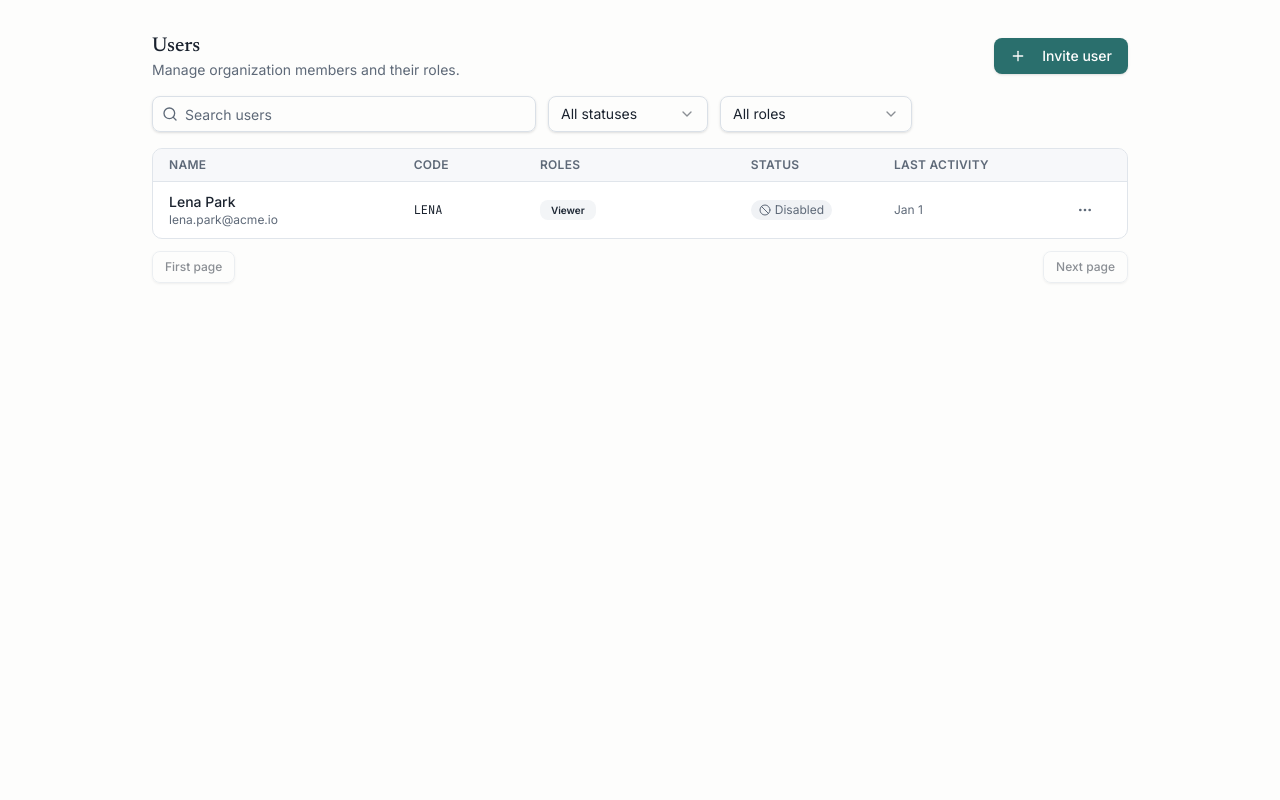
it: AdminUsers › activates a disabled user
expect the text "Lena Park" is shown: met, box [169,193,236,210]
Click the button named "Actions".
click(1085, 210)  # box [1071,196,1099,224]
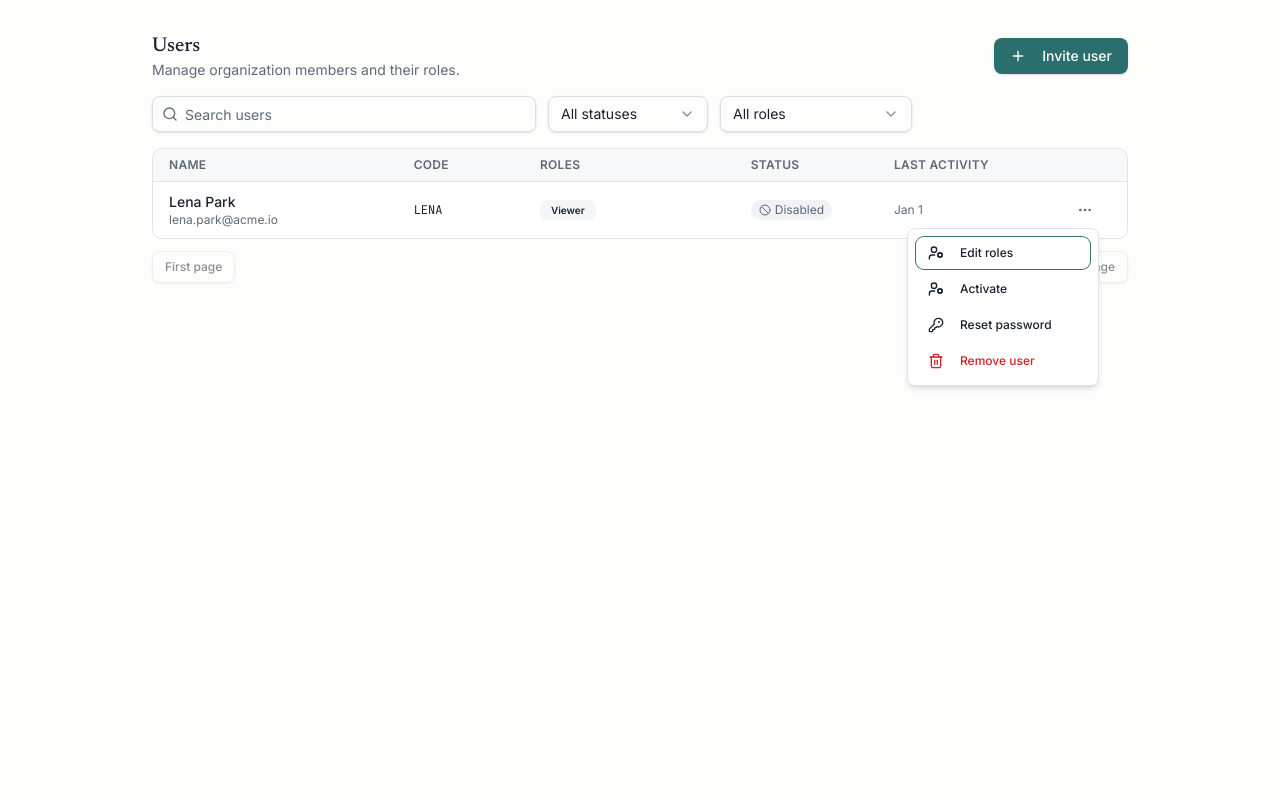
Click the button "Activate".
click(1003, 289)  # box [916,273,1090,305]
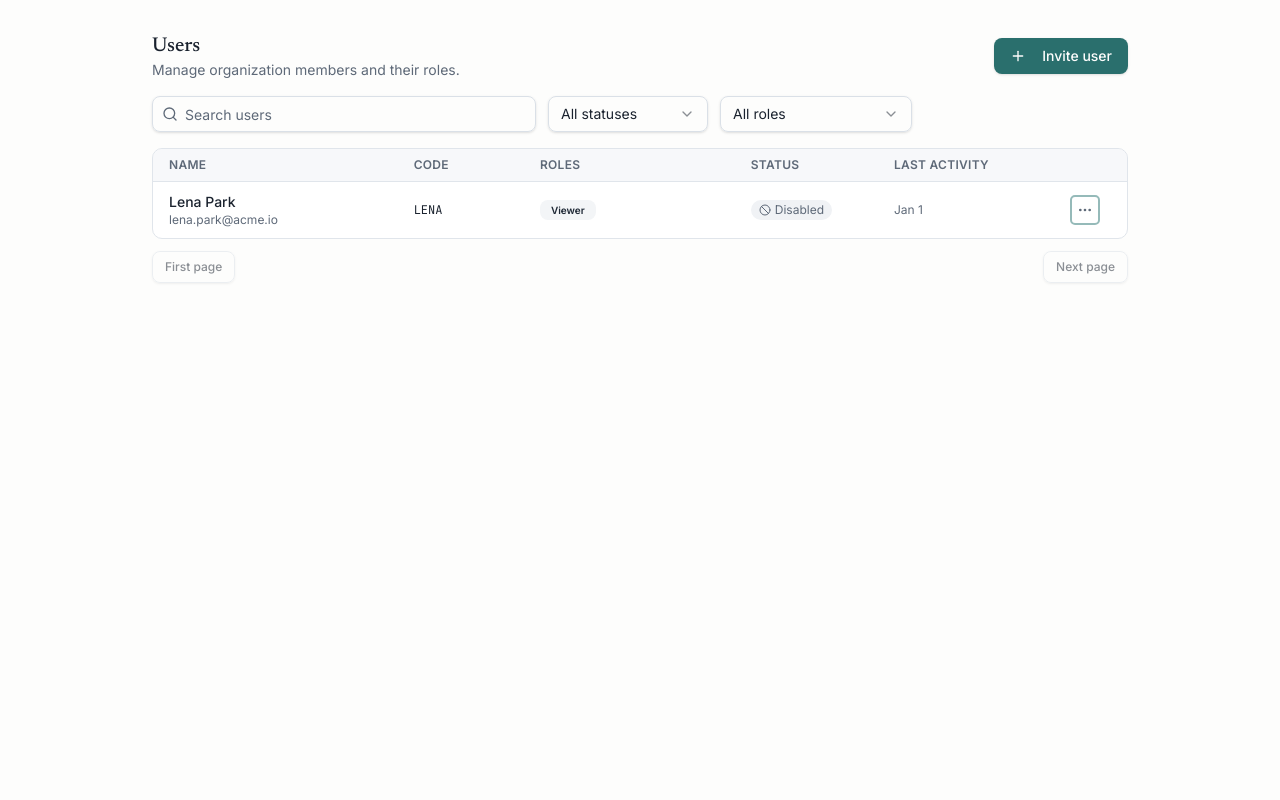
expect the button "Activate" is gone: met
